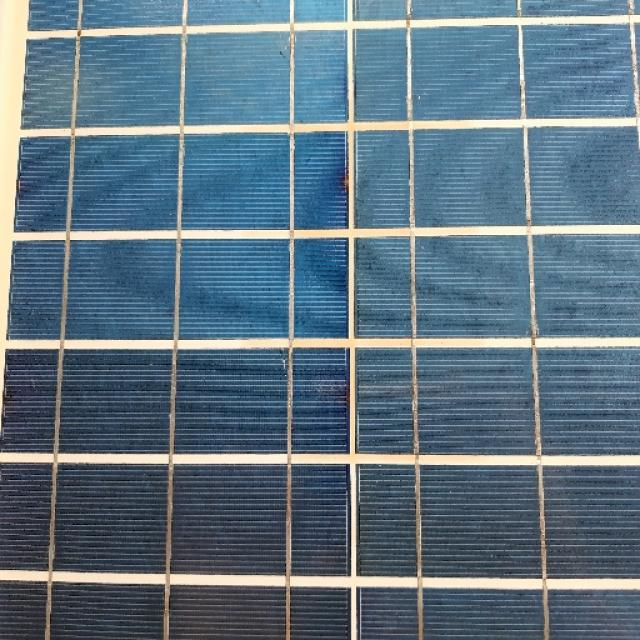Clean: (5, 30, 640, 640)
